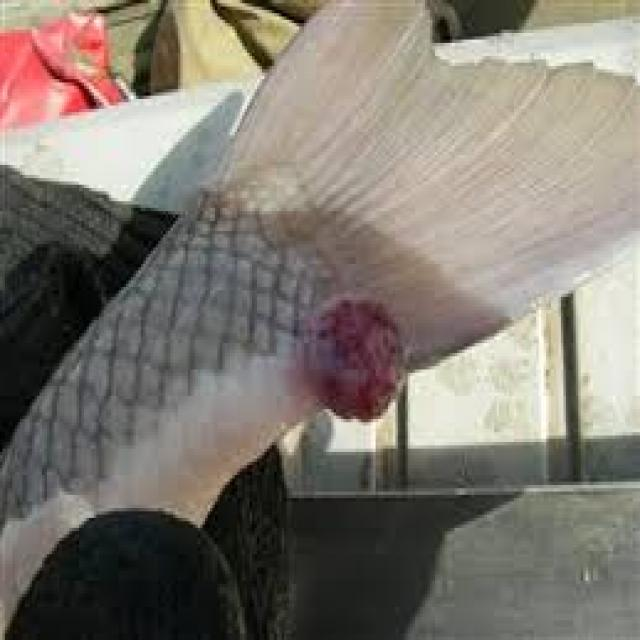EUS Disease: (0, 3, 621, 590), (207, 195, 472, 455)
